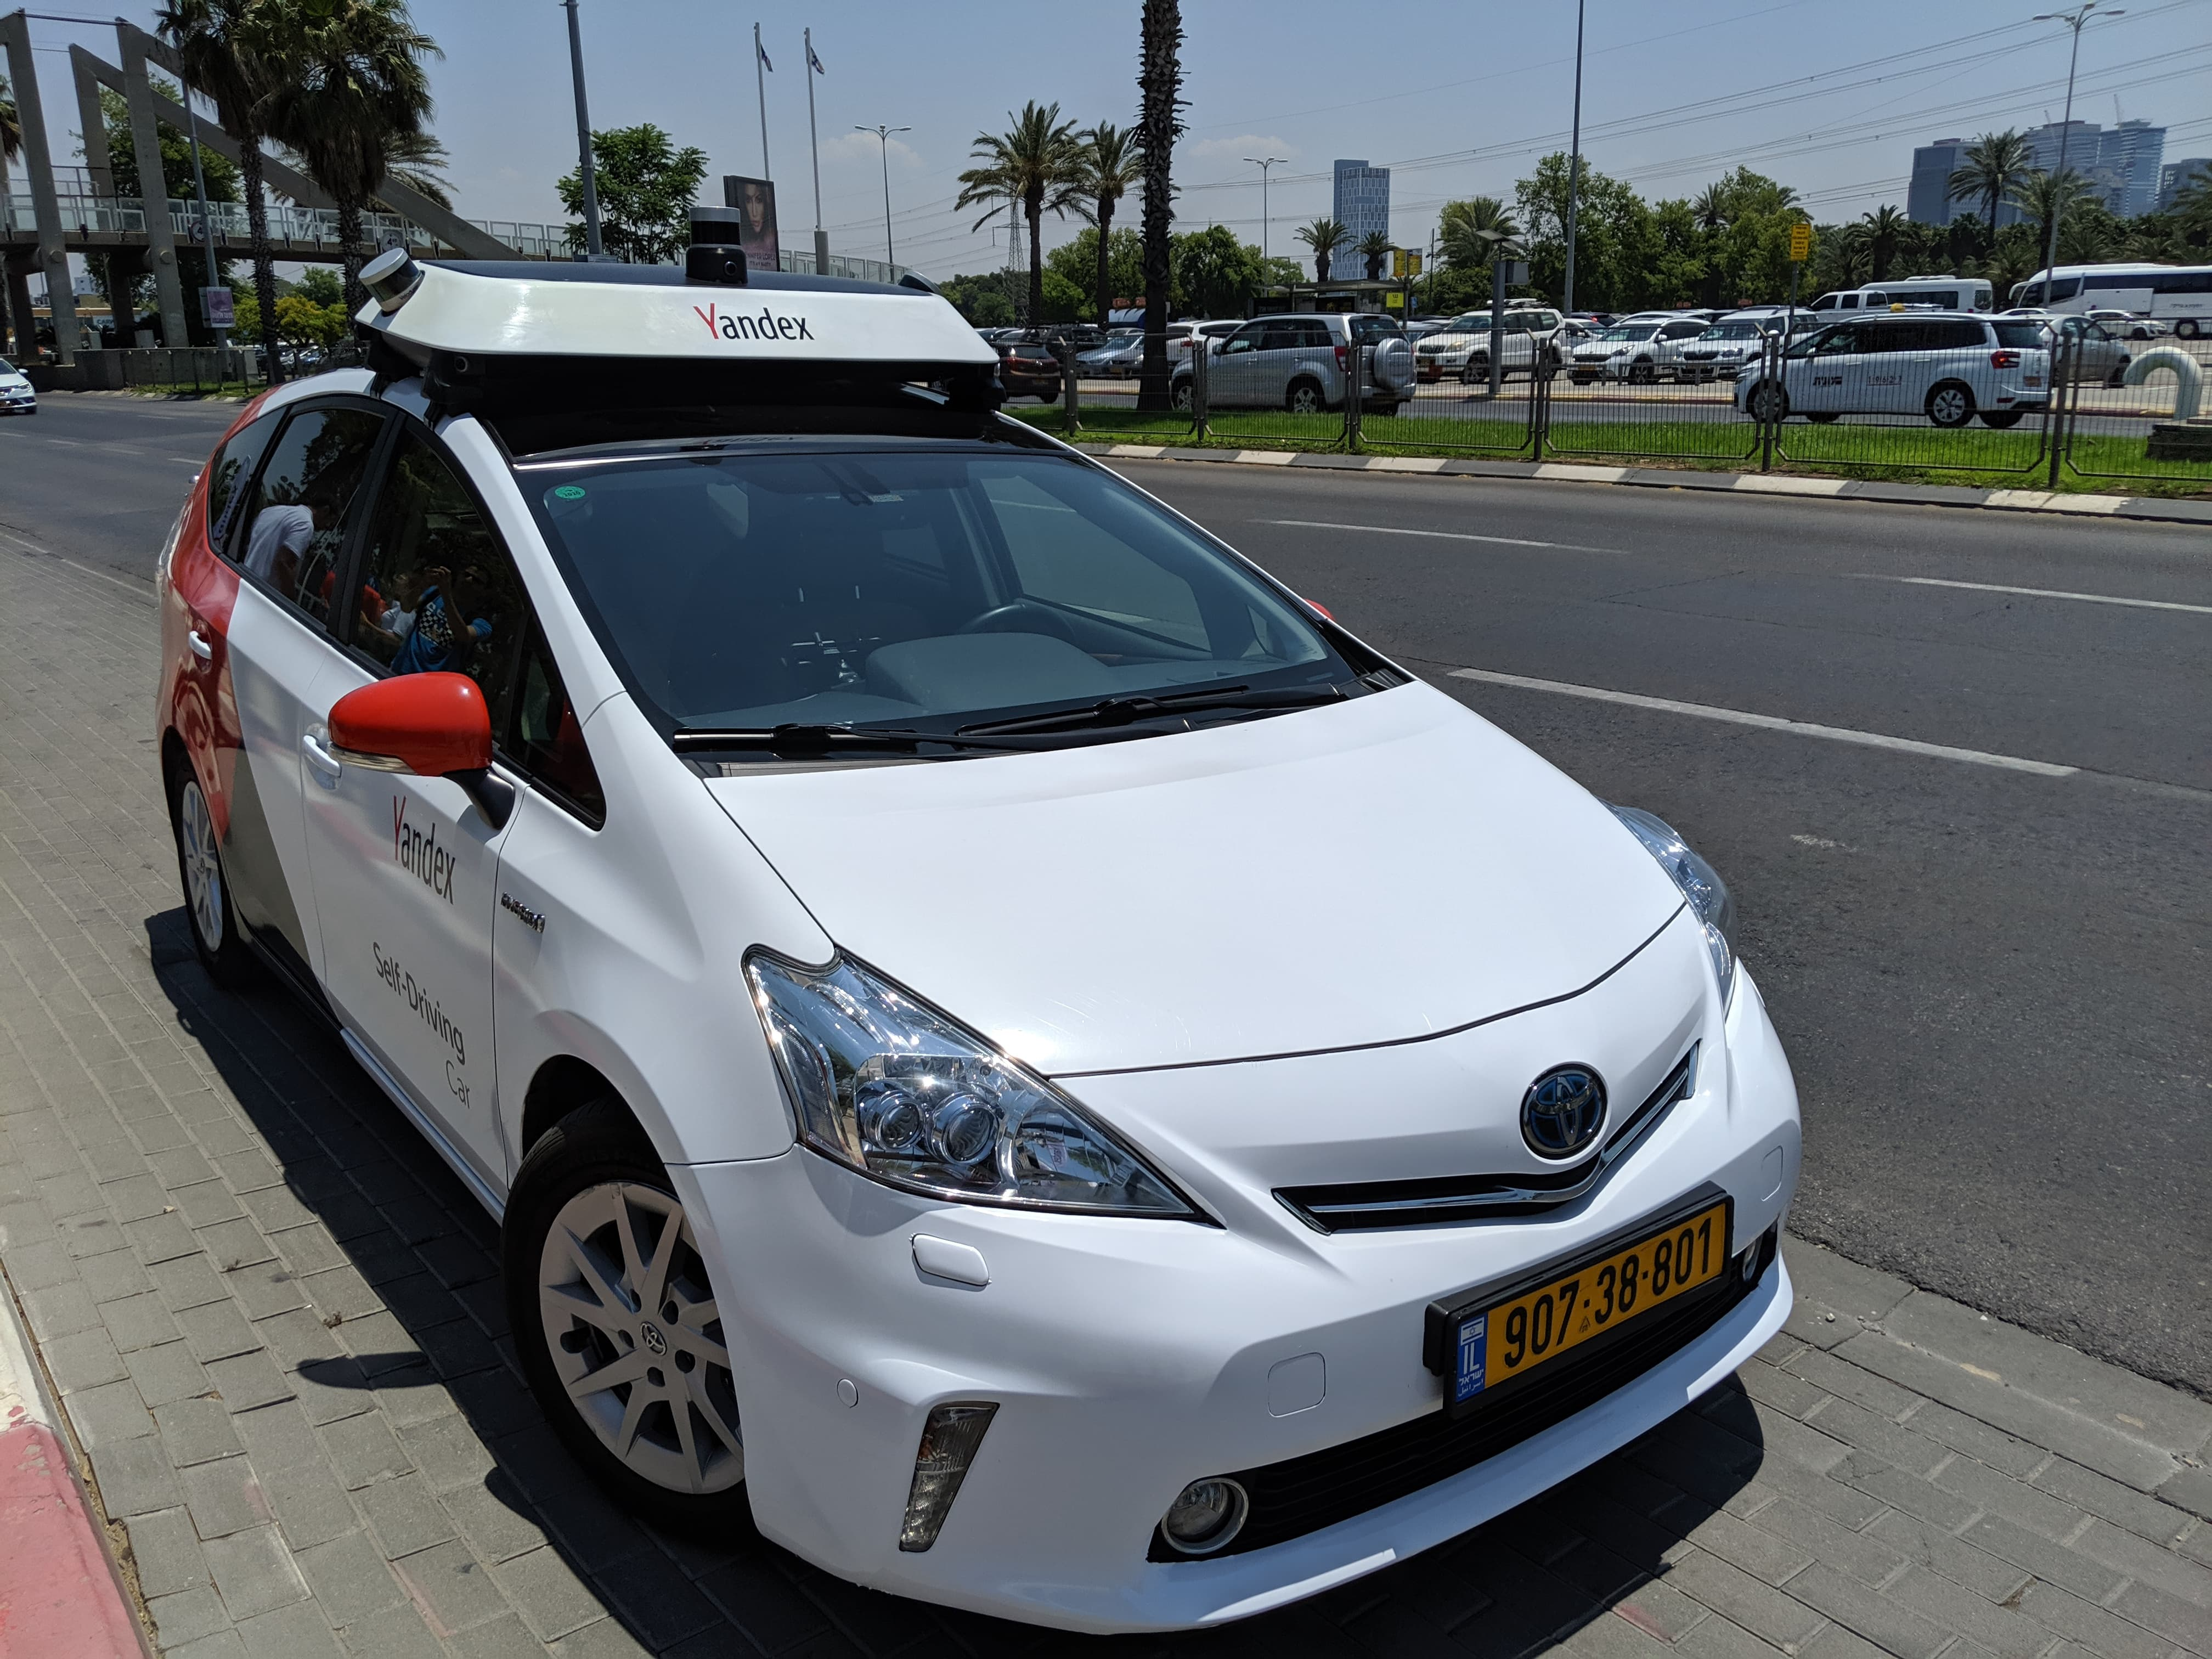licence: (1429, 1181, 1735, 1417)
